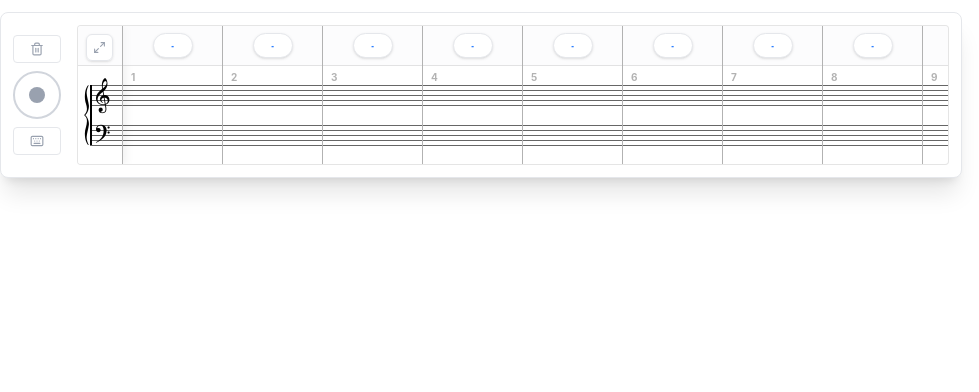
Test: StepSequencer Component UI & Copy Instructions › Phase 2 TDD Checkpoint 1: Given isExpanded === false, When the expand button is clicked, Assert isExpanded becomes true and container height updates to h-[320px
The width and height of the screenshot is (979, 392).
Click the button titled "Expand Timeline" at (100, 48), box 86,34 -> 113,61
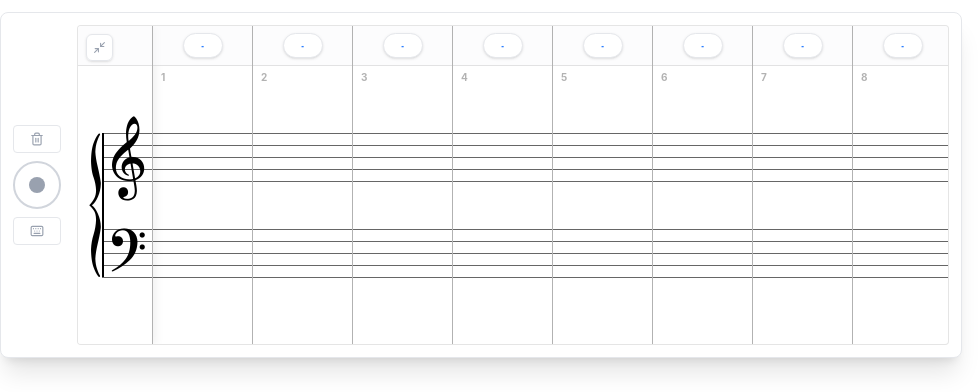
Result: the button titled "Collapse Timeline" is shown at 86,34 -> 113,61
